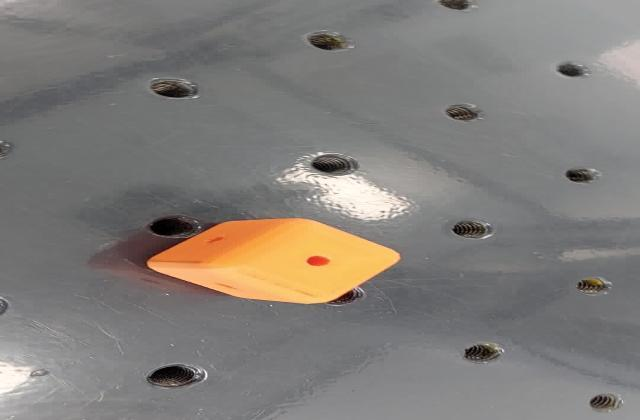cube: (135, 217, 406, 306)
